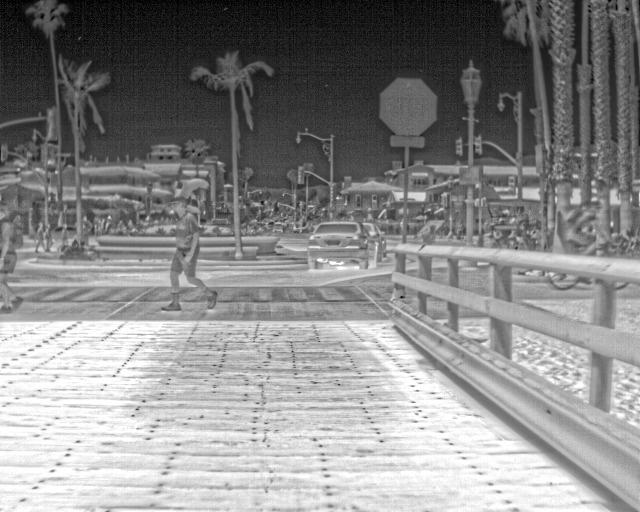bicycle: (305, 221, 368, 272), (365, 221, 387, 266)
empty: (158, 195, 219, 312), (565, 201, 609, 257), (1, 202, 23, 311), (33, 220, 47, 255), (44, 222, 56, 254), (58, 223, 71, 251), (102, 214, 115, 234)
